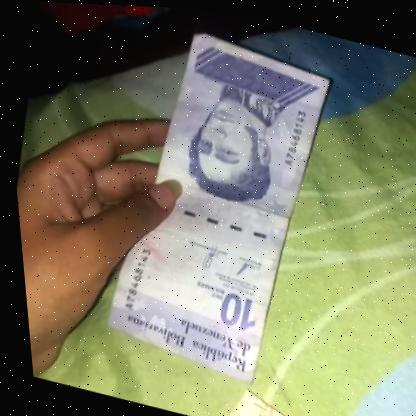ten-front-vef: (77, 14, 353, 394)
